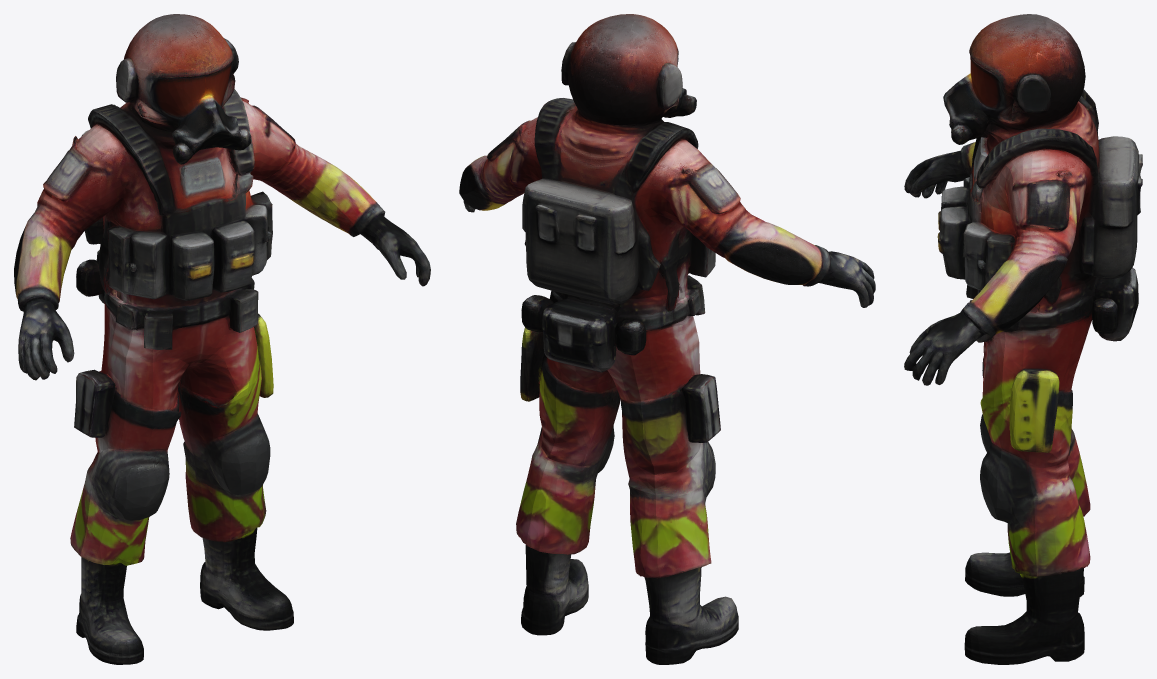
File: nanonaut-7.glb
3 renders of one model, left to right at view 1: azimuth 30°, elevation 25°; view 2: azimuth 150°, elevation 25°; view 3: azimuth 270°, elevation 25°, orthographic.
Visible parts, largest first — view 1: world; view 2: world; view 3: world.
Part boxes in pixels (x1,y1,x2,y2): world: (14, 14, 430, 664); world: (459, 14, 875, 664); world: (904, 14, 1142, 664).
Size of the model in its own units: 0.6946 by 0.9994 by 0.3585.
Materials: 1 (1 with a texture image).
